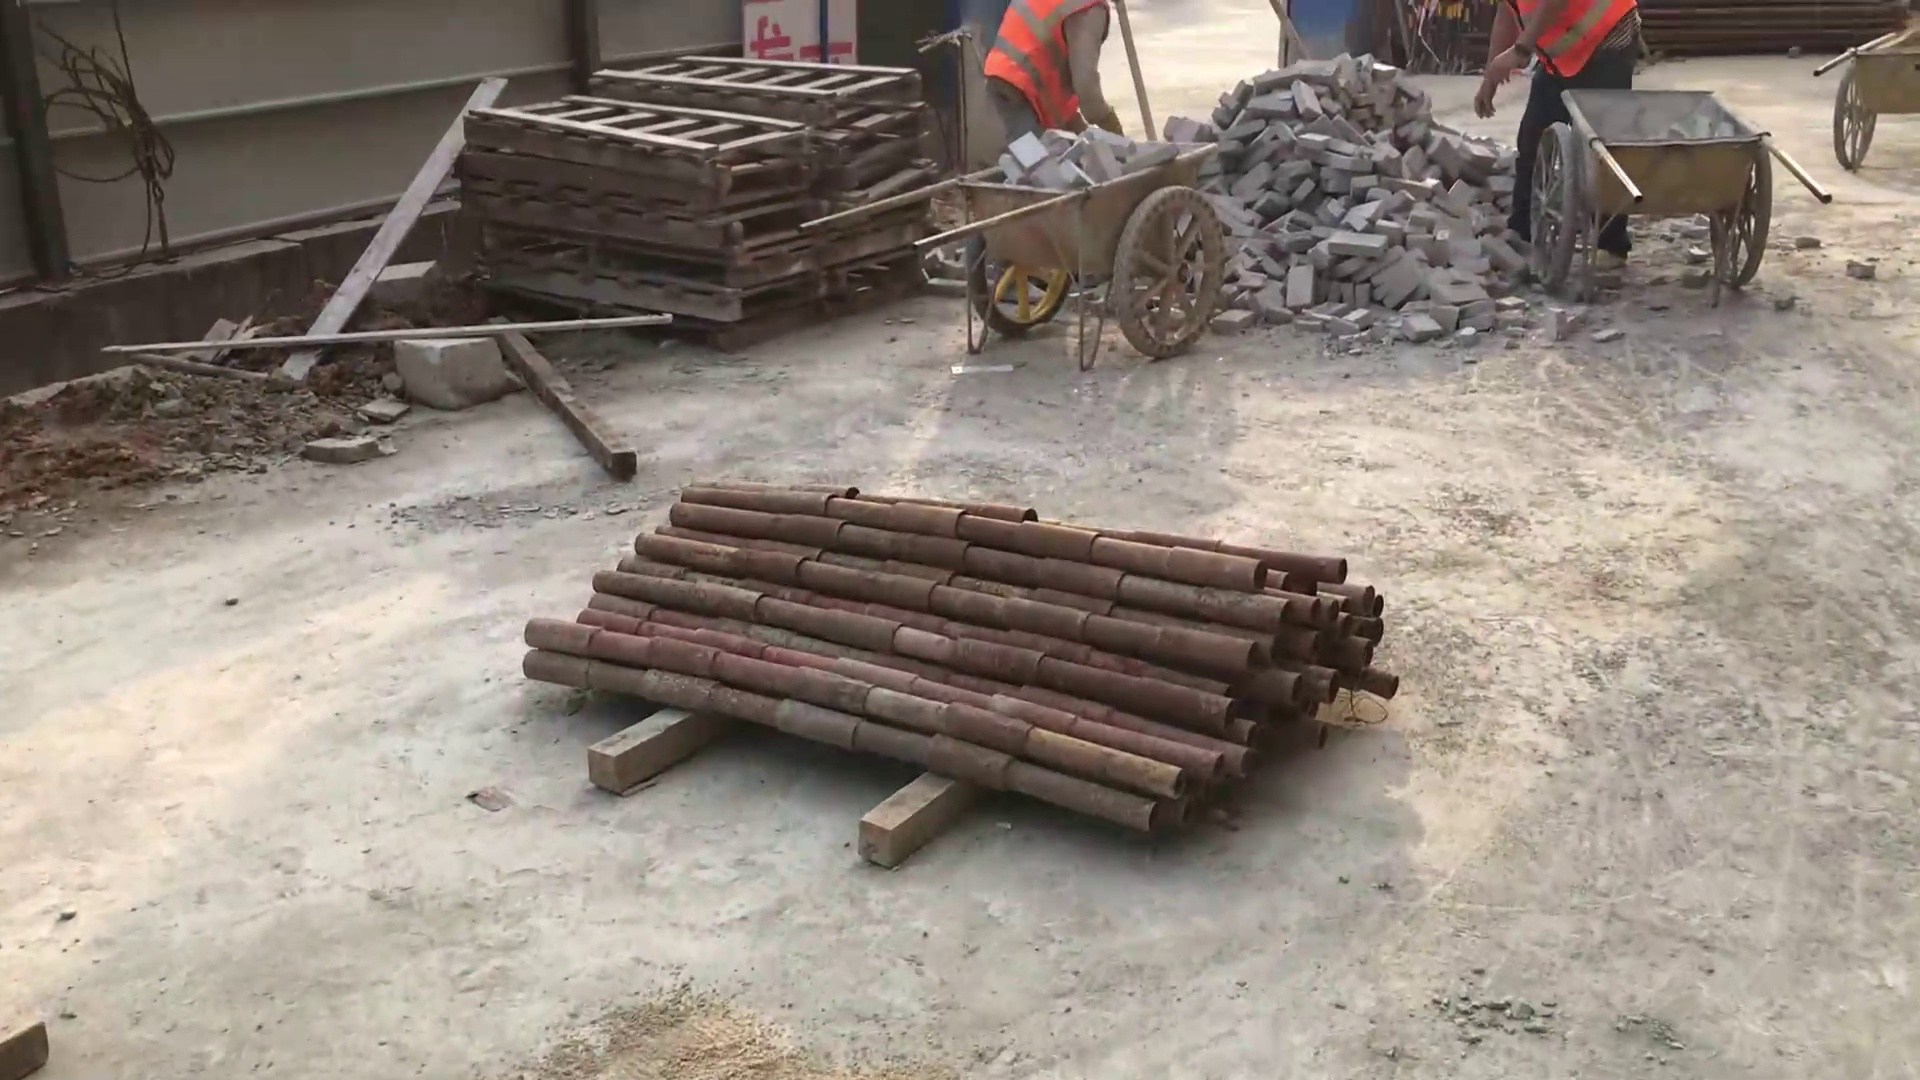handcart: (794, 129, 1230, 375), (1523, 82, 1837, 296), (1807, 25, 1920, 179)
person: (1470, 1, 1649, 279), (976, 1, 1127, 157)
scaffold: (518, 475, 1406, 841)
slogan: (740, 1, 864, 74)
vest: (982, 1, 1110, 132), (1508, 1, 1636, 78)
